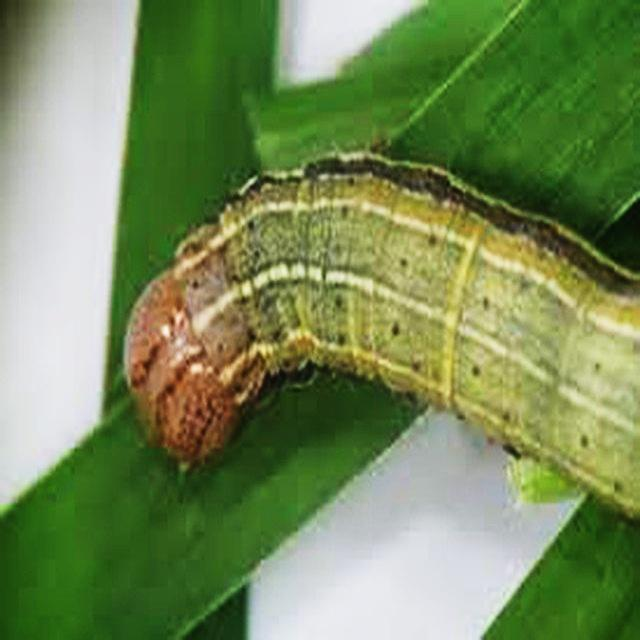gusano_cogollero: (118, 137, 640, 523)
